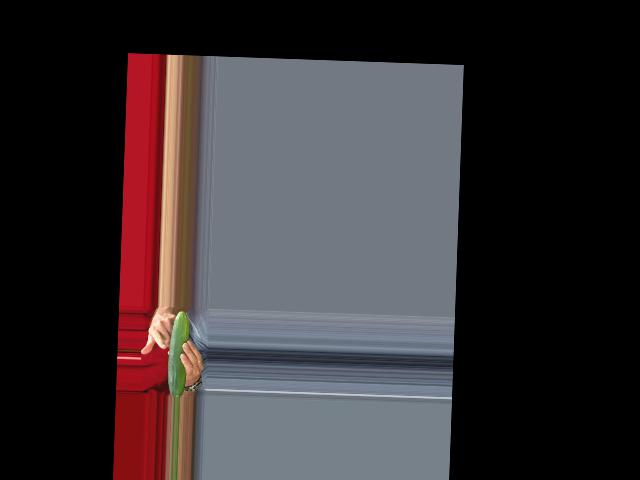cucumber: (167, 311, 190, 397)
